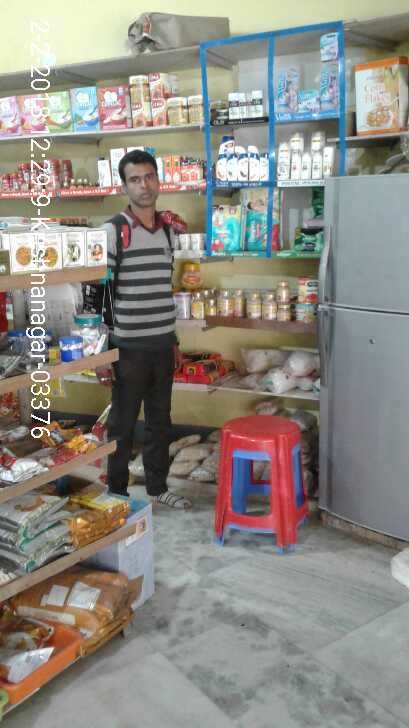venus: (274, 65, 297, 113), (319, 67, 338, 113), (319, 32, 338, 62), (297, 89, 319, 113)
